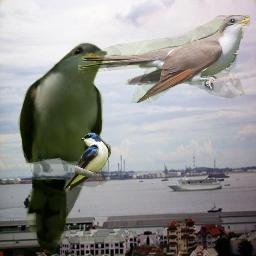Cuckoo: (18, 42, 108, 251), (78, 15, 250, 103)
Swallow: (63, 132, 111, 191)
